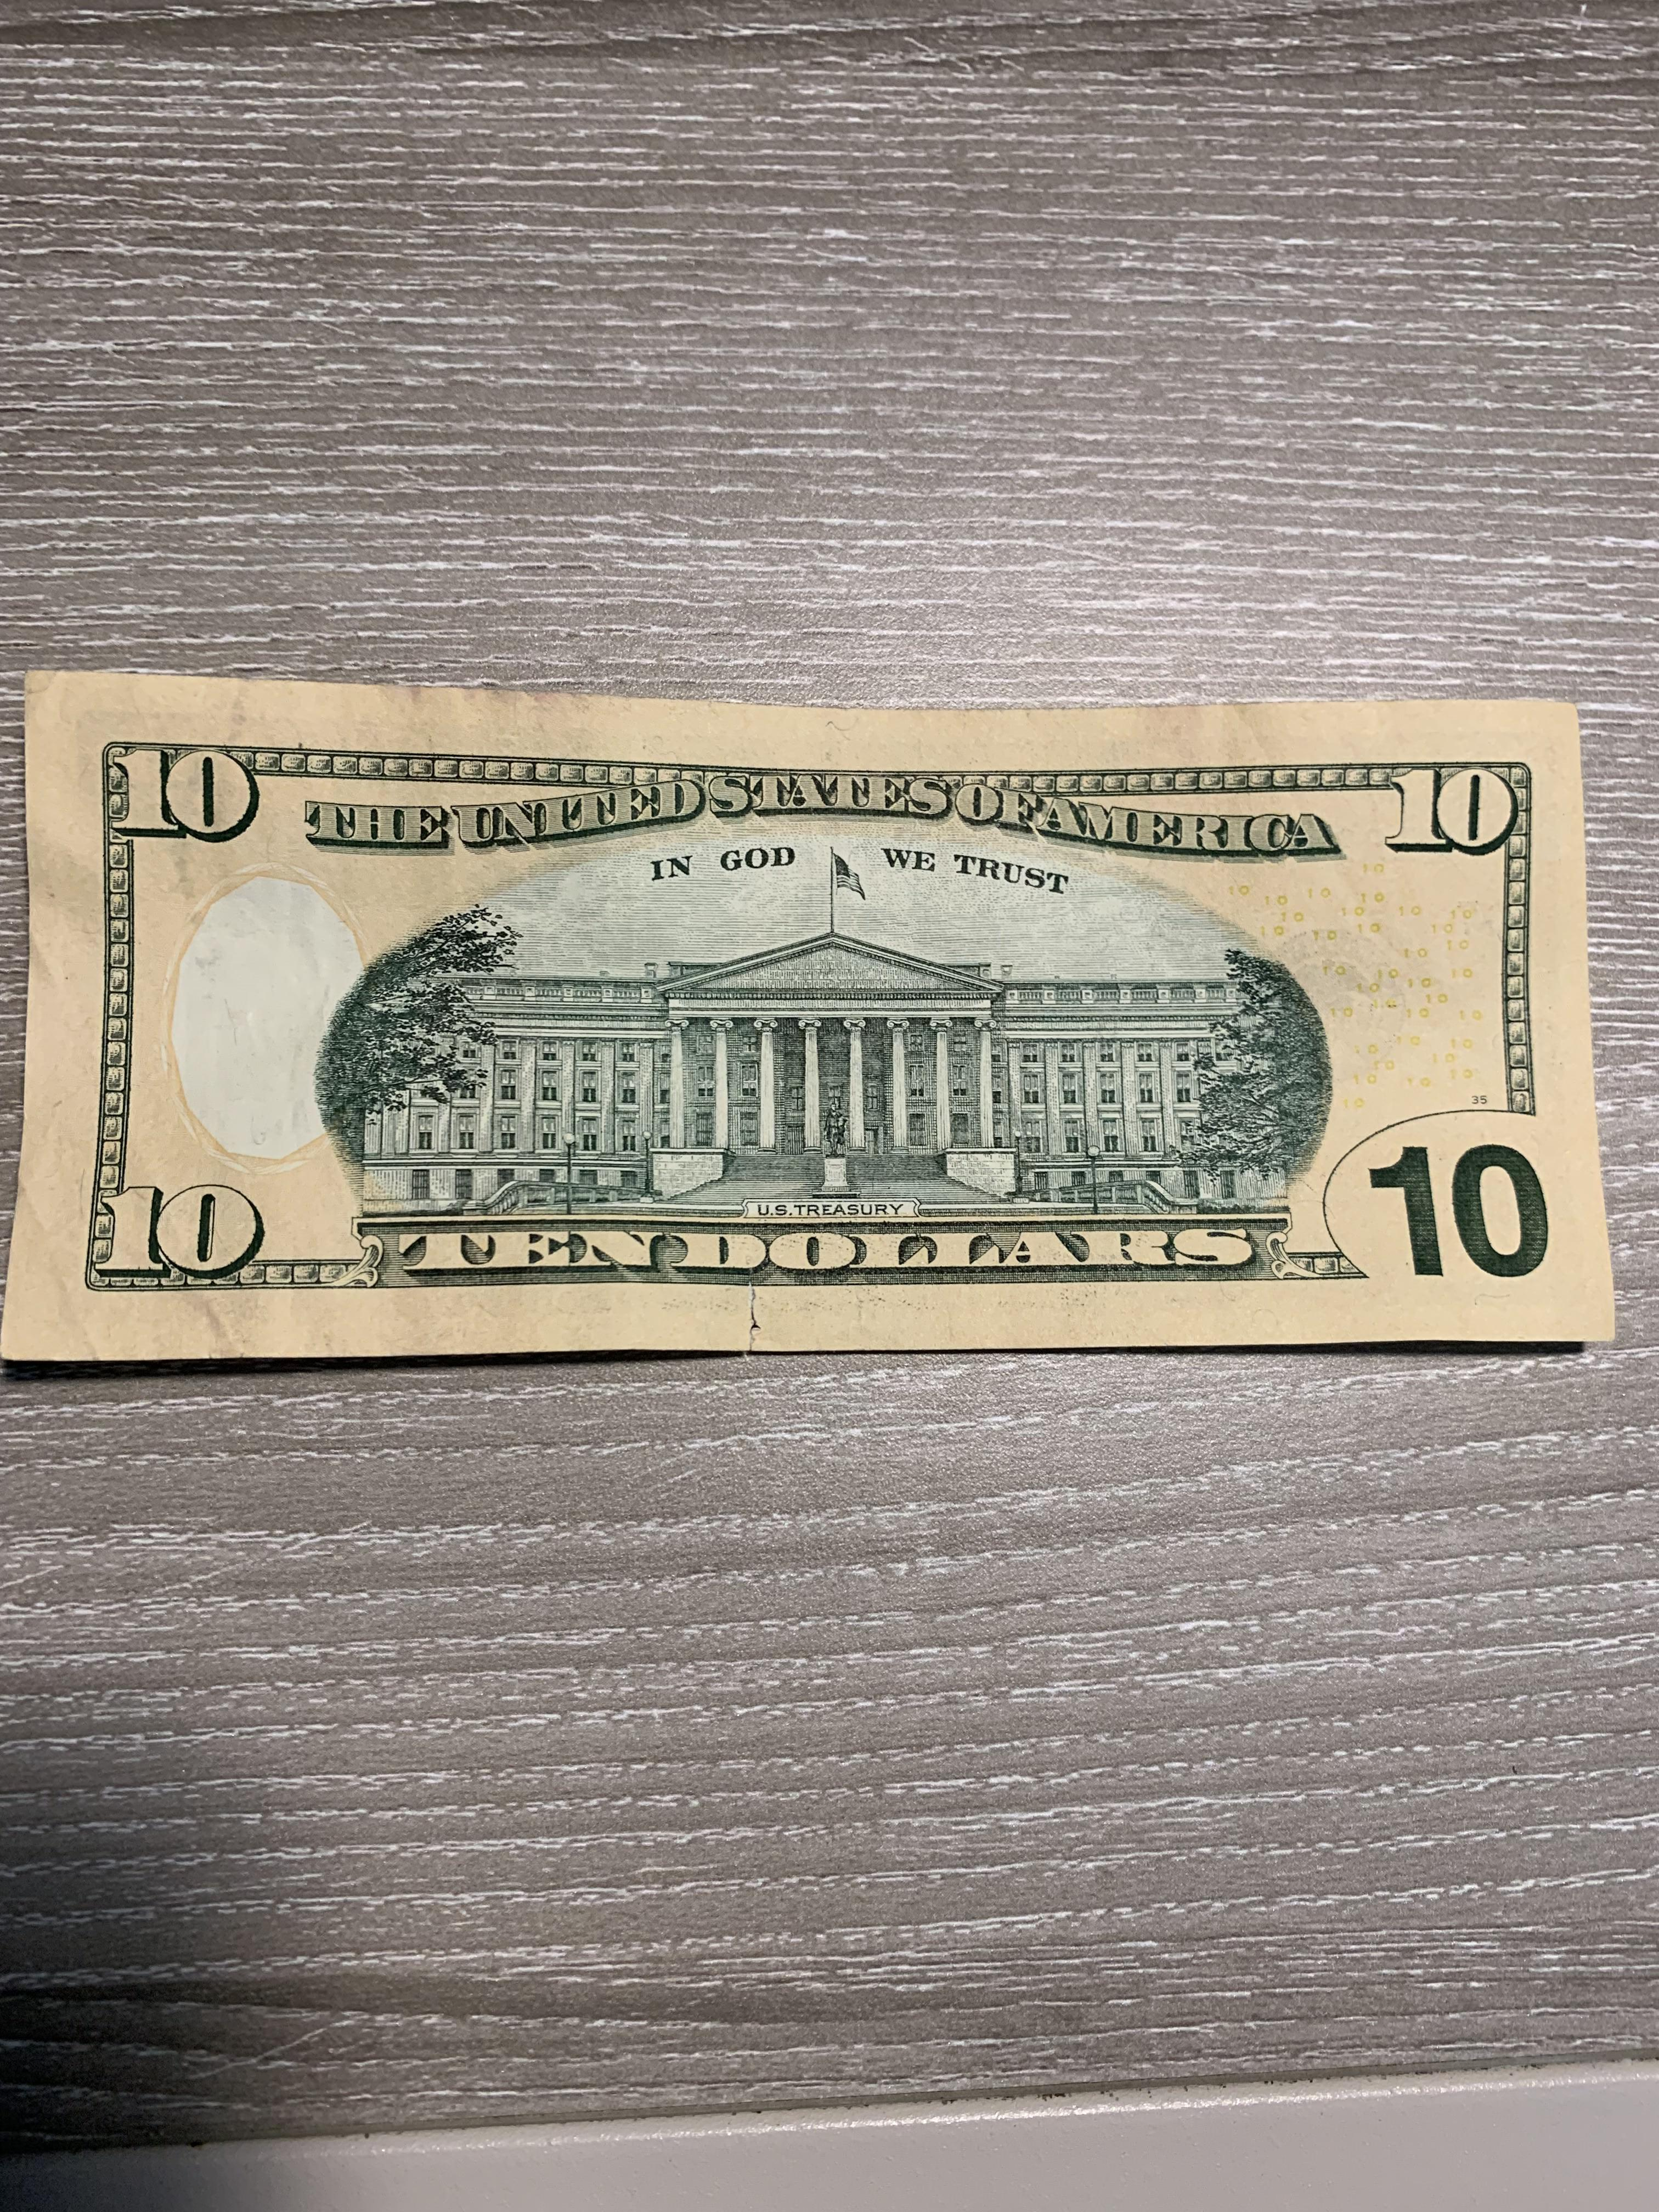TenBill: (2, 655, 1633, 1374)
